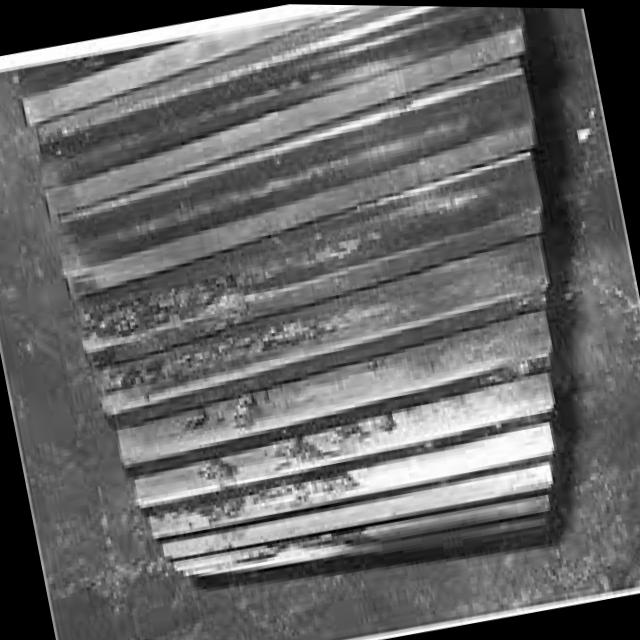Fault-Exist: (46, 1, 569, 593)
